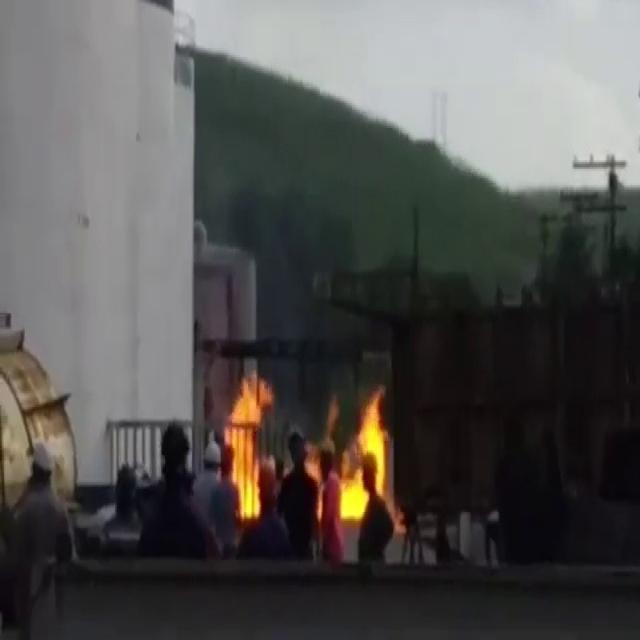Fire: (226, 375, 265, 519), (342, 396, 385, 514)
